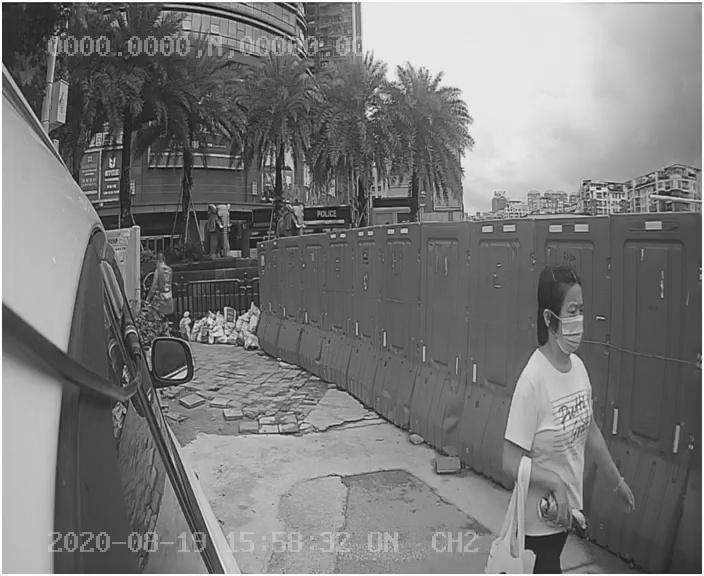person: (489, 255, 639, 568)
